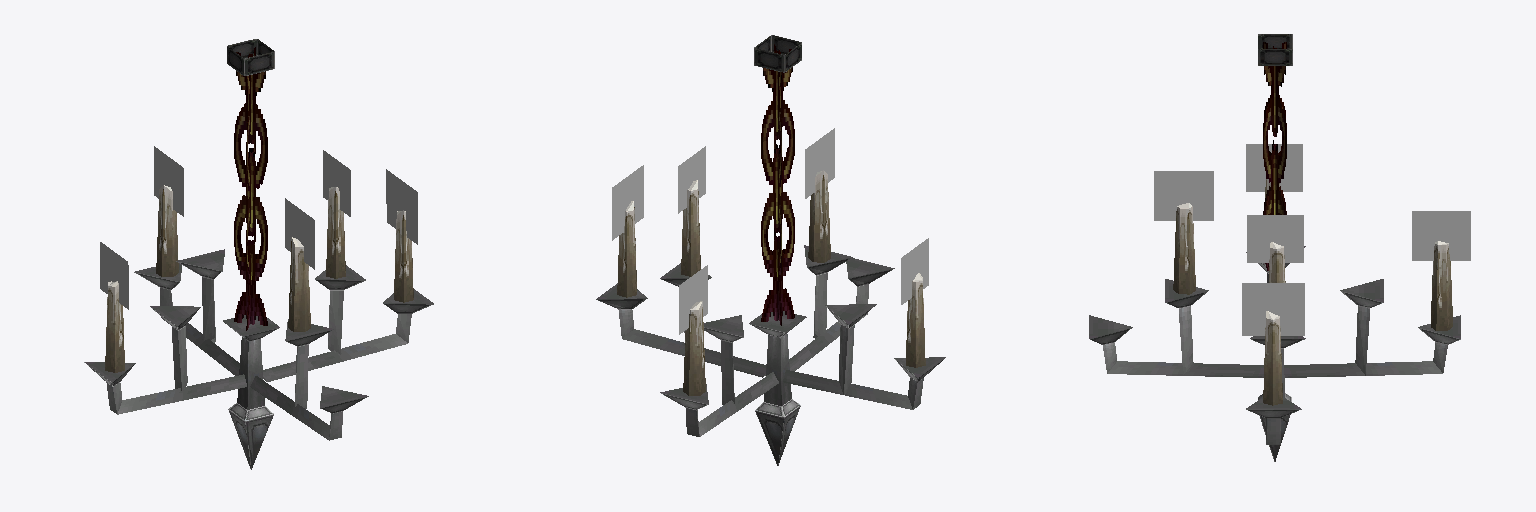
3 renders of one model, left to right at view 1: azimuth 30°, elevation 25°; view 2: azimuth 150°, elevation 25°; view 3: azimuth 270°, elevation 25°, orthographic.
Parts seen in each view (by area): view 1: object 1; view 2: object 1; view 3: object 1.
Boxes of the visible parts, x1=… form: object 1: x1=84, y1=39, x2=433, y2=469; object 1: x1=596, y1=35, x2=945, y2=465; object 1: x1=1089, y1=34, x2=1470, y2=461.
Size of the model in its own units: 1.58 by 1.98 by 1.63.
Materials: 3 (2 with a texture image).